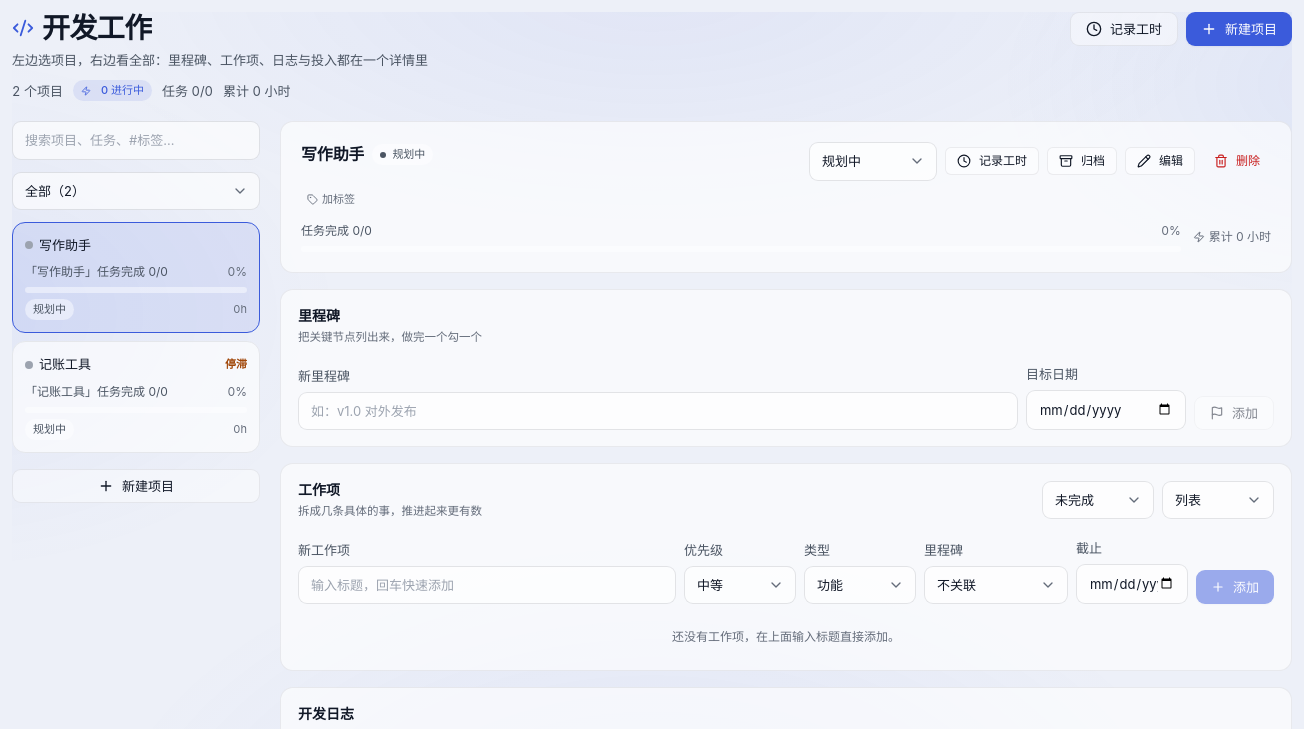
DevPage 布局与项目 › 超过 14 天没有动静的未完成项目显示停滞提醒
The width and height of the screenshot is (1304, 729).
Expected: the text "停滞" is shown once, [225, 356, 247, 373]
What coordinates should you click on to do the following:
click the button "记账工具 停滞 「记账工具」任务完成 0/0 0% 规划中 0h"
I would click on:
 (136, 397)
Its box is [12, 341, 260, 453].
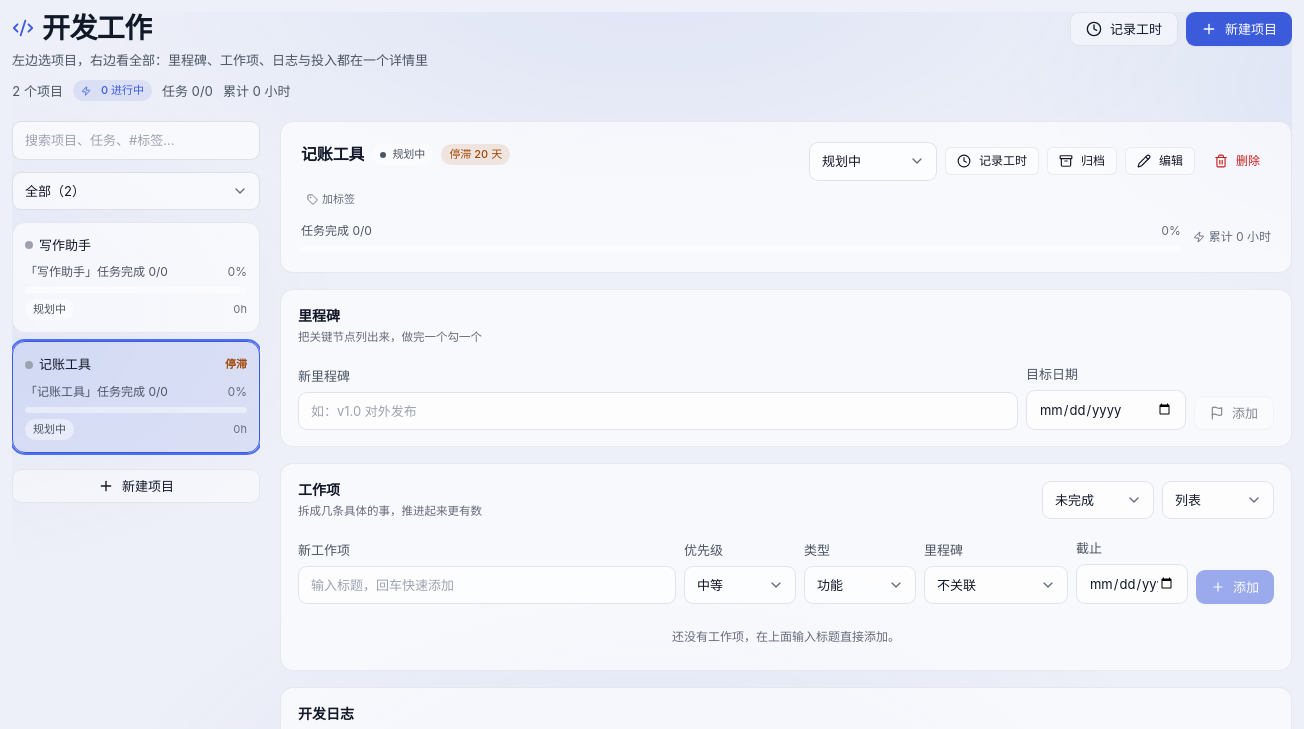
Expected: the text "停滞 20 天" is shown, [441, 144, 510, 165]
